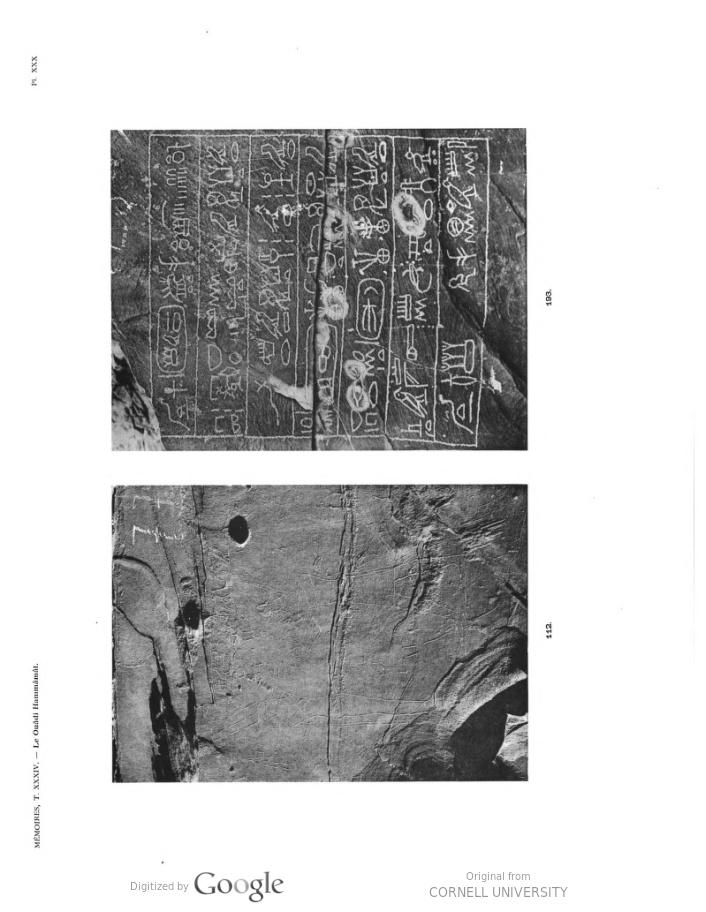circle: (151, 293, 200, 391), (350, 264, 391, 349)
